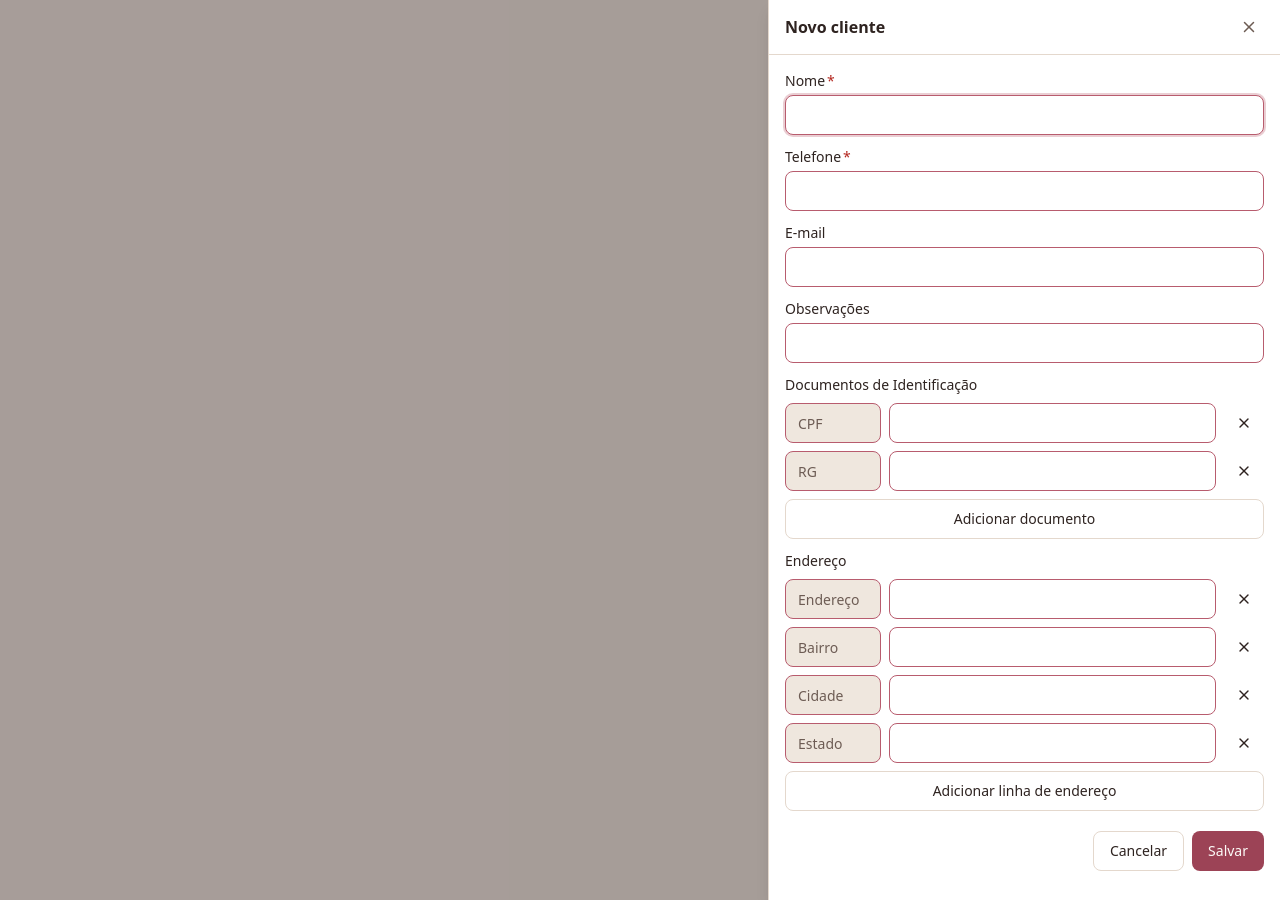
Test case: ClientDrawer › prompts instead of closing when the header X is clicked with unsaved input
Type "Nova Cliente" into the field labelled "Nome" at (1024, 115), box [785, 95, 1264, 135]
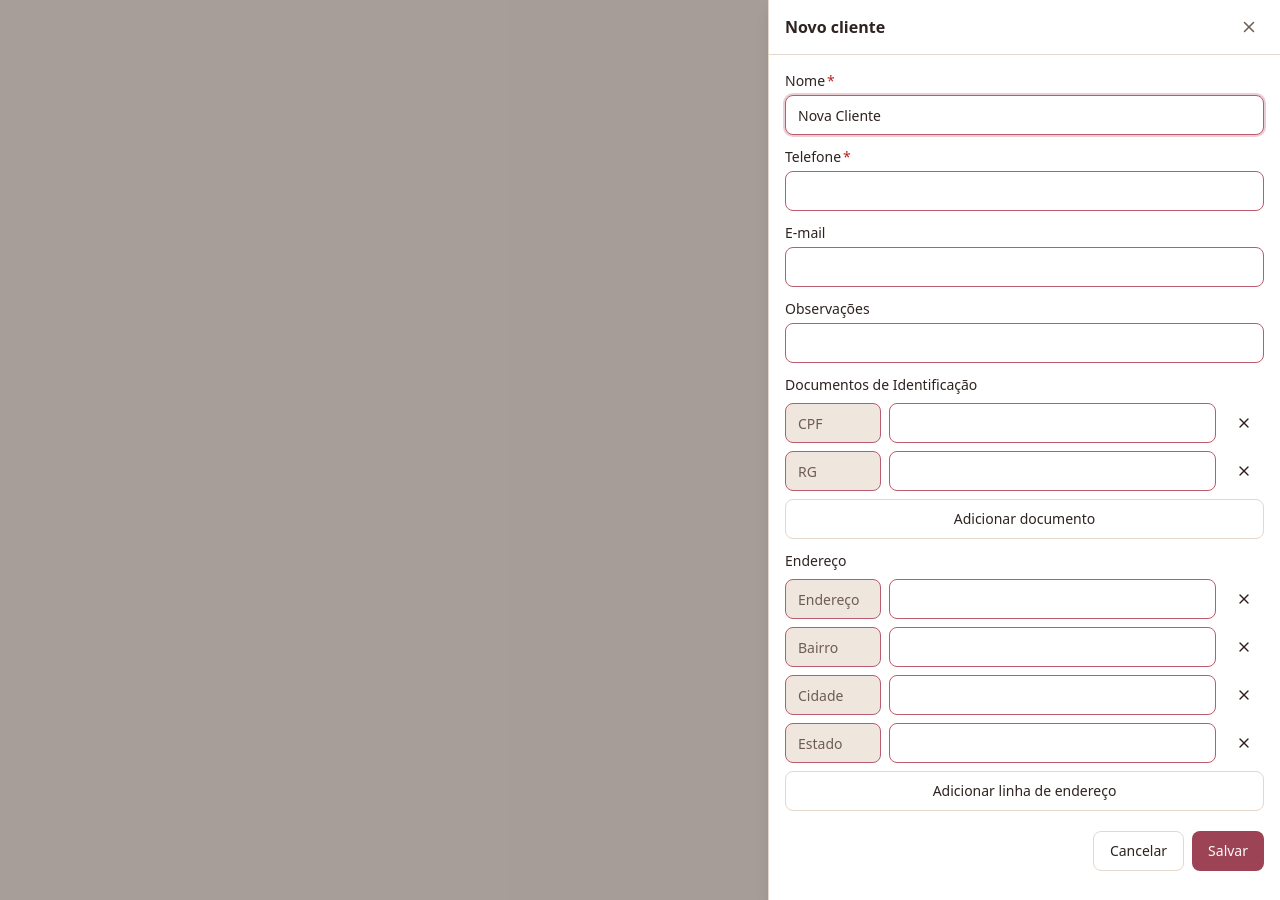
Click the button named "Fechar" at (1249, 27), box [1234, 12, 1264, 42]
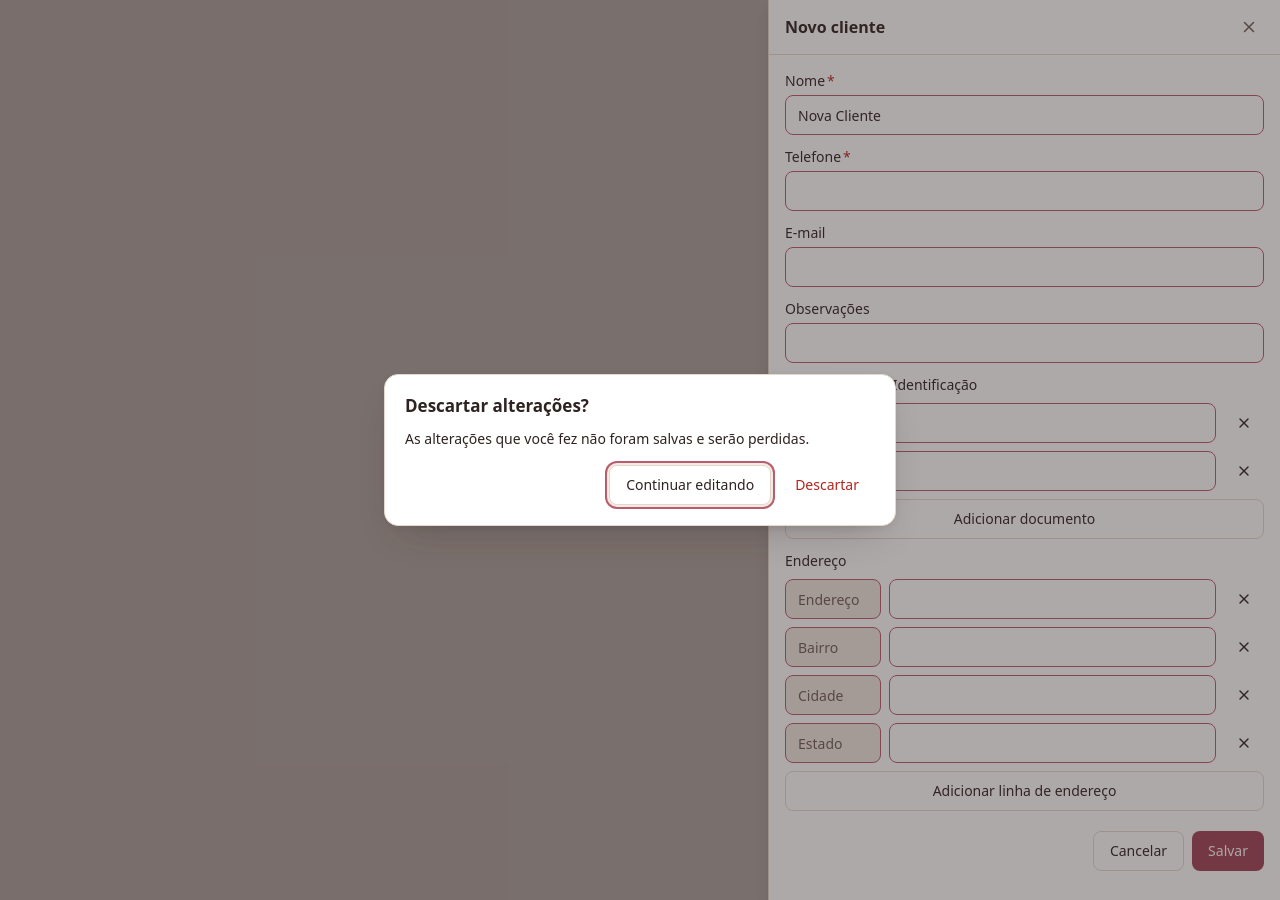
Check: the heading "Descartar alterações?" is shown, box [405, 394, 589, 417]
